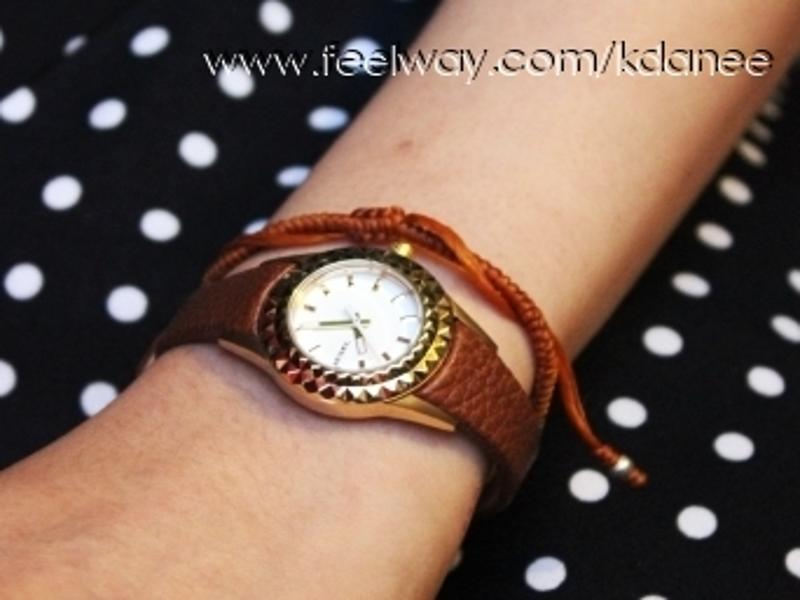watch: (141, 247, 547, 481)
